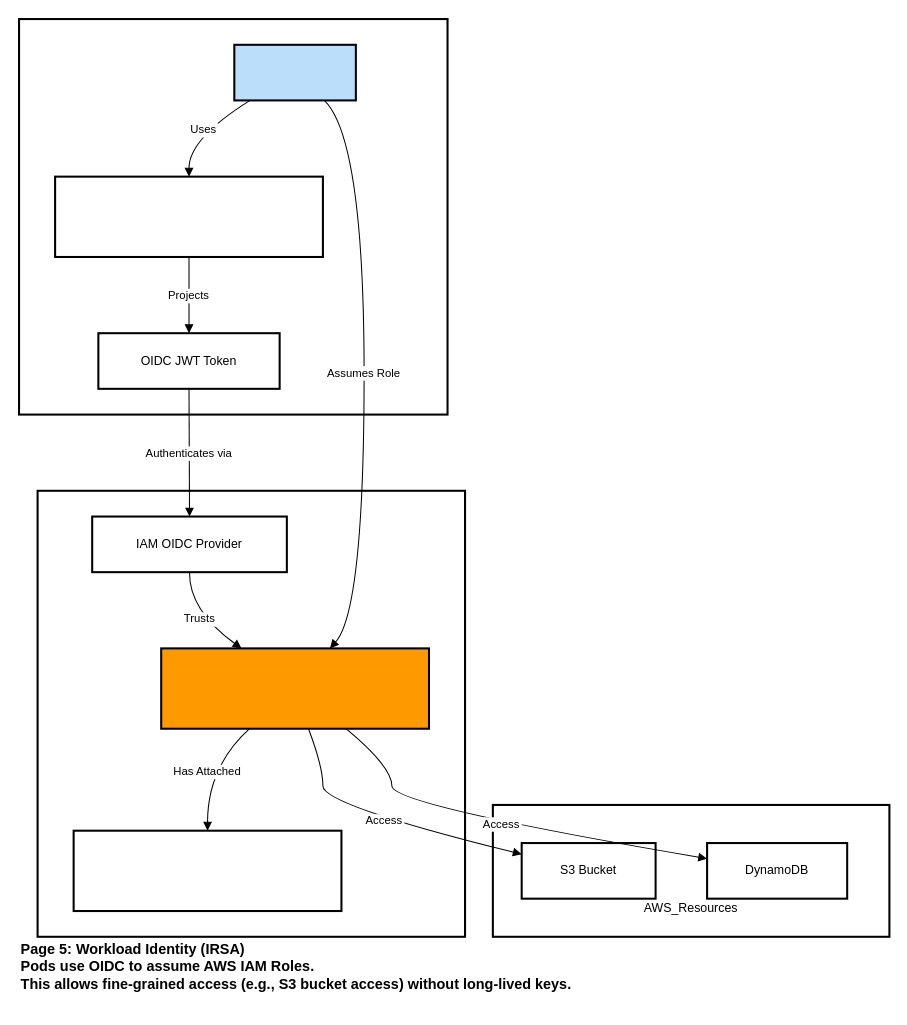
The diagram is 907 pixels wide and 1025 high, and some of its shapes have lost their labels. Each missing label, with the centre of its shape:
App Pod: [294,72]
IAM Policy Allow: s3:PutObject: [207,870]
IAM Role for Service Account: [295,688]
Service Account annotation: role-arn: [188,216]
